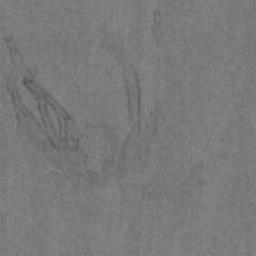Water spot: (3, 28, 165, 219), (151, 9, 165, 42)
